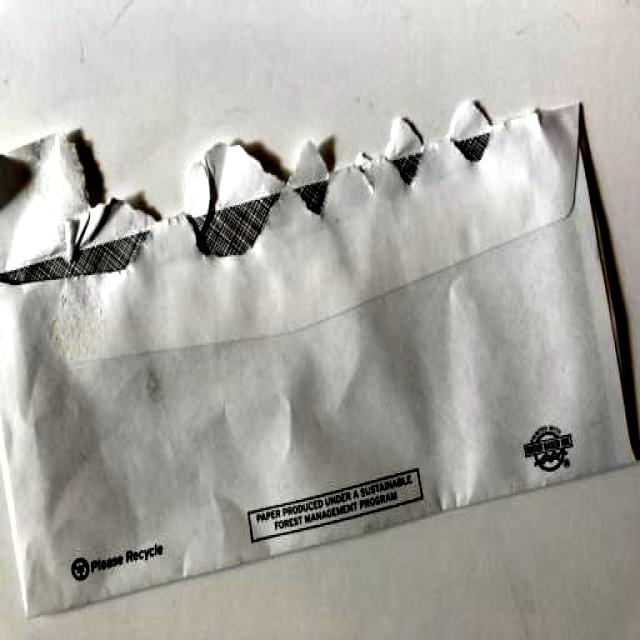Paper: (0, 84, 640, 632)
